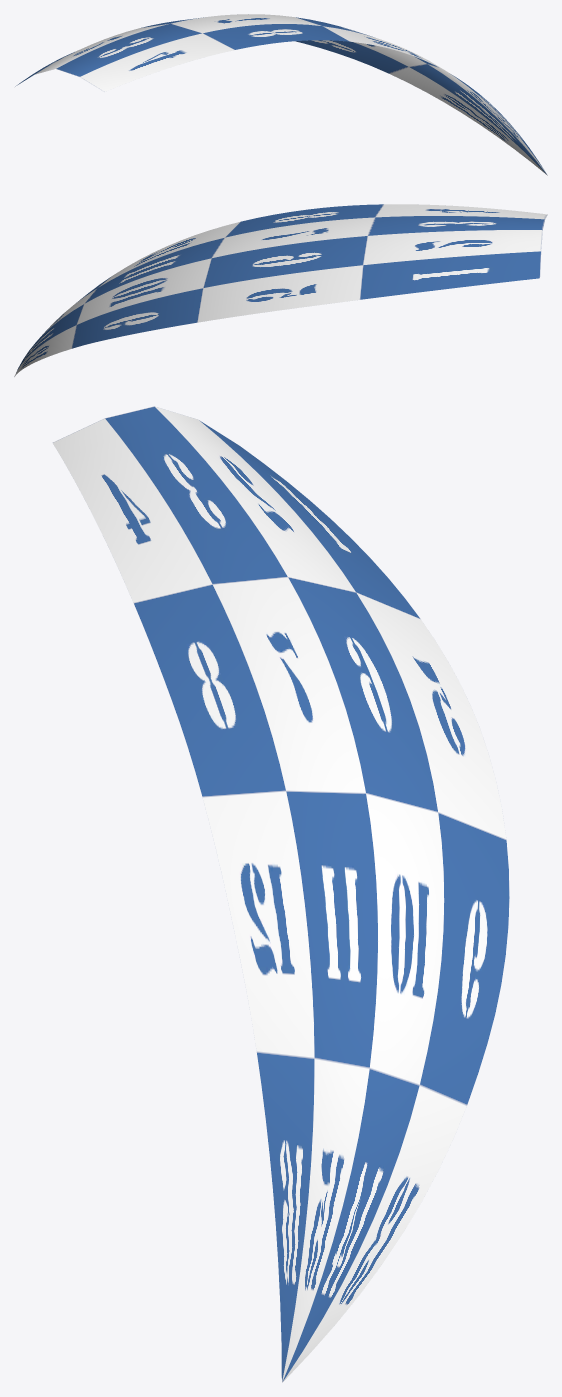
The model's file is RuiDad_Wind3.fbx.
3 views of the same model, one above another, from view 1: azimuth 30°, elevation 25°; view 2: azimuth 150°, elevation 25°; view 3: azimuth 270°, elevation 25° (orthographic). The views are drawn at different scales.
Parts seen in each view (by area): view 1: SM_e_Plc_P1009_Wind003_02; view 2: SM_e_Plc_P1009_Wind003_02; view 3: SM_e_Plc_P1009_Wind003_02.
Part boxes in pixels (x1,y1,x2,y2): SM_e_Plc_P1009_Wind003_02: [15, 14, 547, 175]; SM_e_Plc_P1009_Wind003_02: [14, 204, 547, 376]; SM_e_Plc_P1009_Wind003_02: [52, 406, 509, 1382].
Size of the model in its own units: 192 by 87.5 by 73.77.
